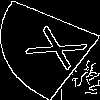X: (24, 25, 100, 77)
